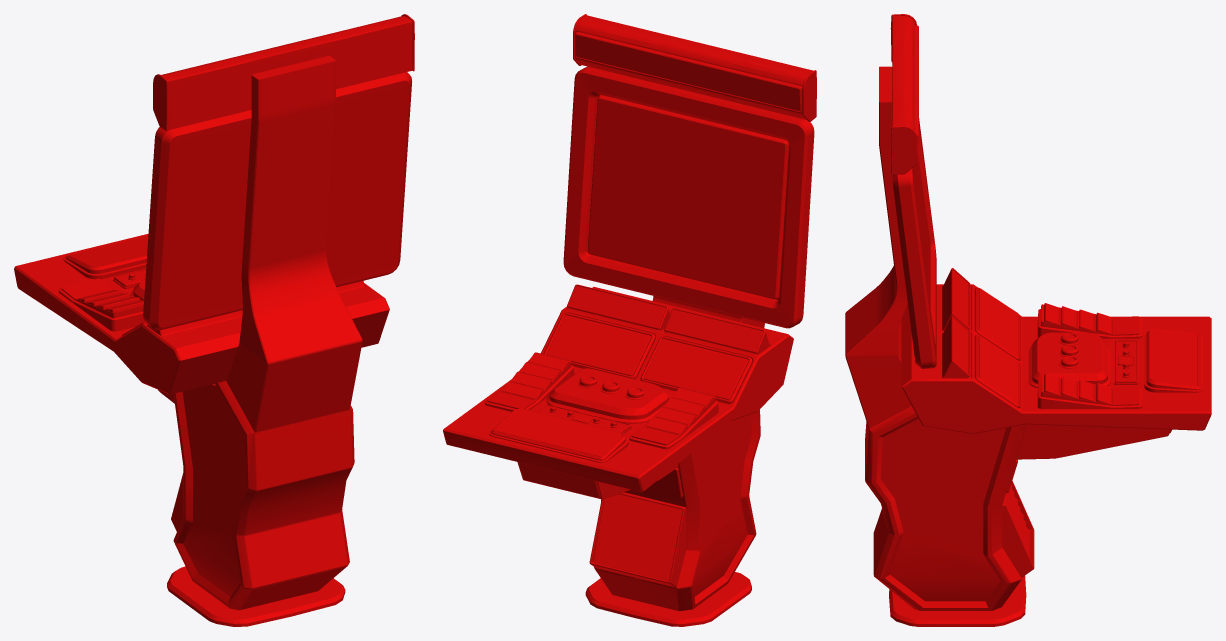
The model's file is Terminal_2.fbx.
3 renders of one model, left to right at view 1: azimuth 30°, elevation 25°; view 2: azimuth 150°, elevation 25°; view 3: azimuth 270°, elevation 25°, orthographic. The views are drawn at different scales.
Parts seen in each view (by area): view 1: polySurface235; view 2: polySurface235; view 3: polySurface235.
Part boxes in pixels (left/top/right/bottom): polySurface235: left=14, top=14, right=414, bottom=626; polySurface235: left=443, top=14, right=816, bottom=626; polySurface235: left=845, top=14, right=1211, bottom=626.
Size of the model in its own units: 72.09 by 155 by 97.91.
